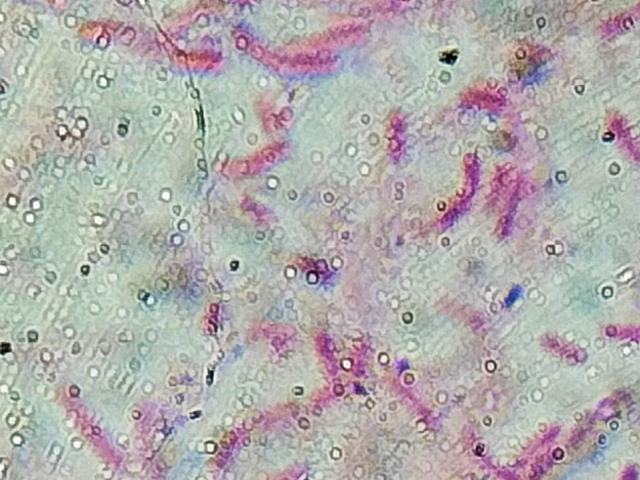E. coli: (126, 396, 178, 480), (58, 380, 108, 458), (252, 37, 343, 71), (389, 373, 445, 423), (441, 145, 476, 222), (299, 10, 368, 49), (171, 39, 231, 80), (602, 106, 640, 170), (591, 0, 640, 48), (231, 137, 286, 178), (248, 315, 297, 358), (539, 326, 584, 370), (575, 399, 616, 447), (465, 83, 514, 123), (378, 100, 405, 166), (299, 385, 358, 413), (312, 326, 346, 370), (466, 440, 503, 477), (605, 313, 640, 350), (352, 333, 381, 377), (522, 447, 559, 480), (256, 96, 289, 133), (509, 172, 525, 248), (231, 407, 291, 426), (511, 422, 554, 447), (481, 157, 502, 208), (212, 432, 242, 464), (268, 463, 311, 480), (613, 458, 640, 480)
